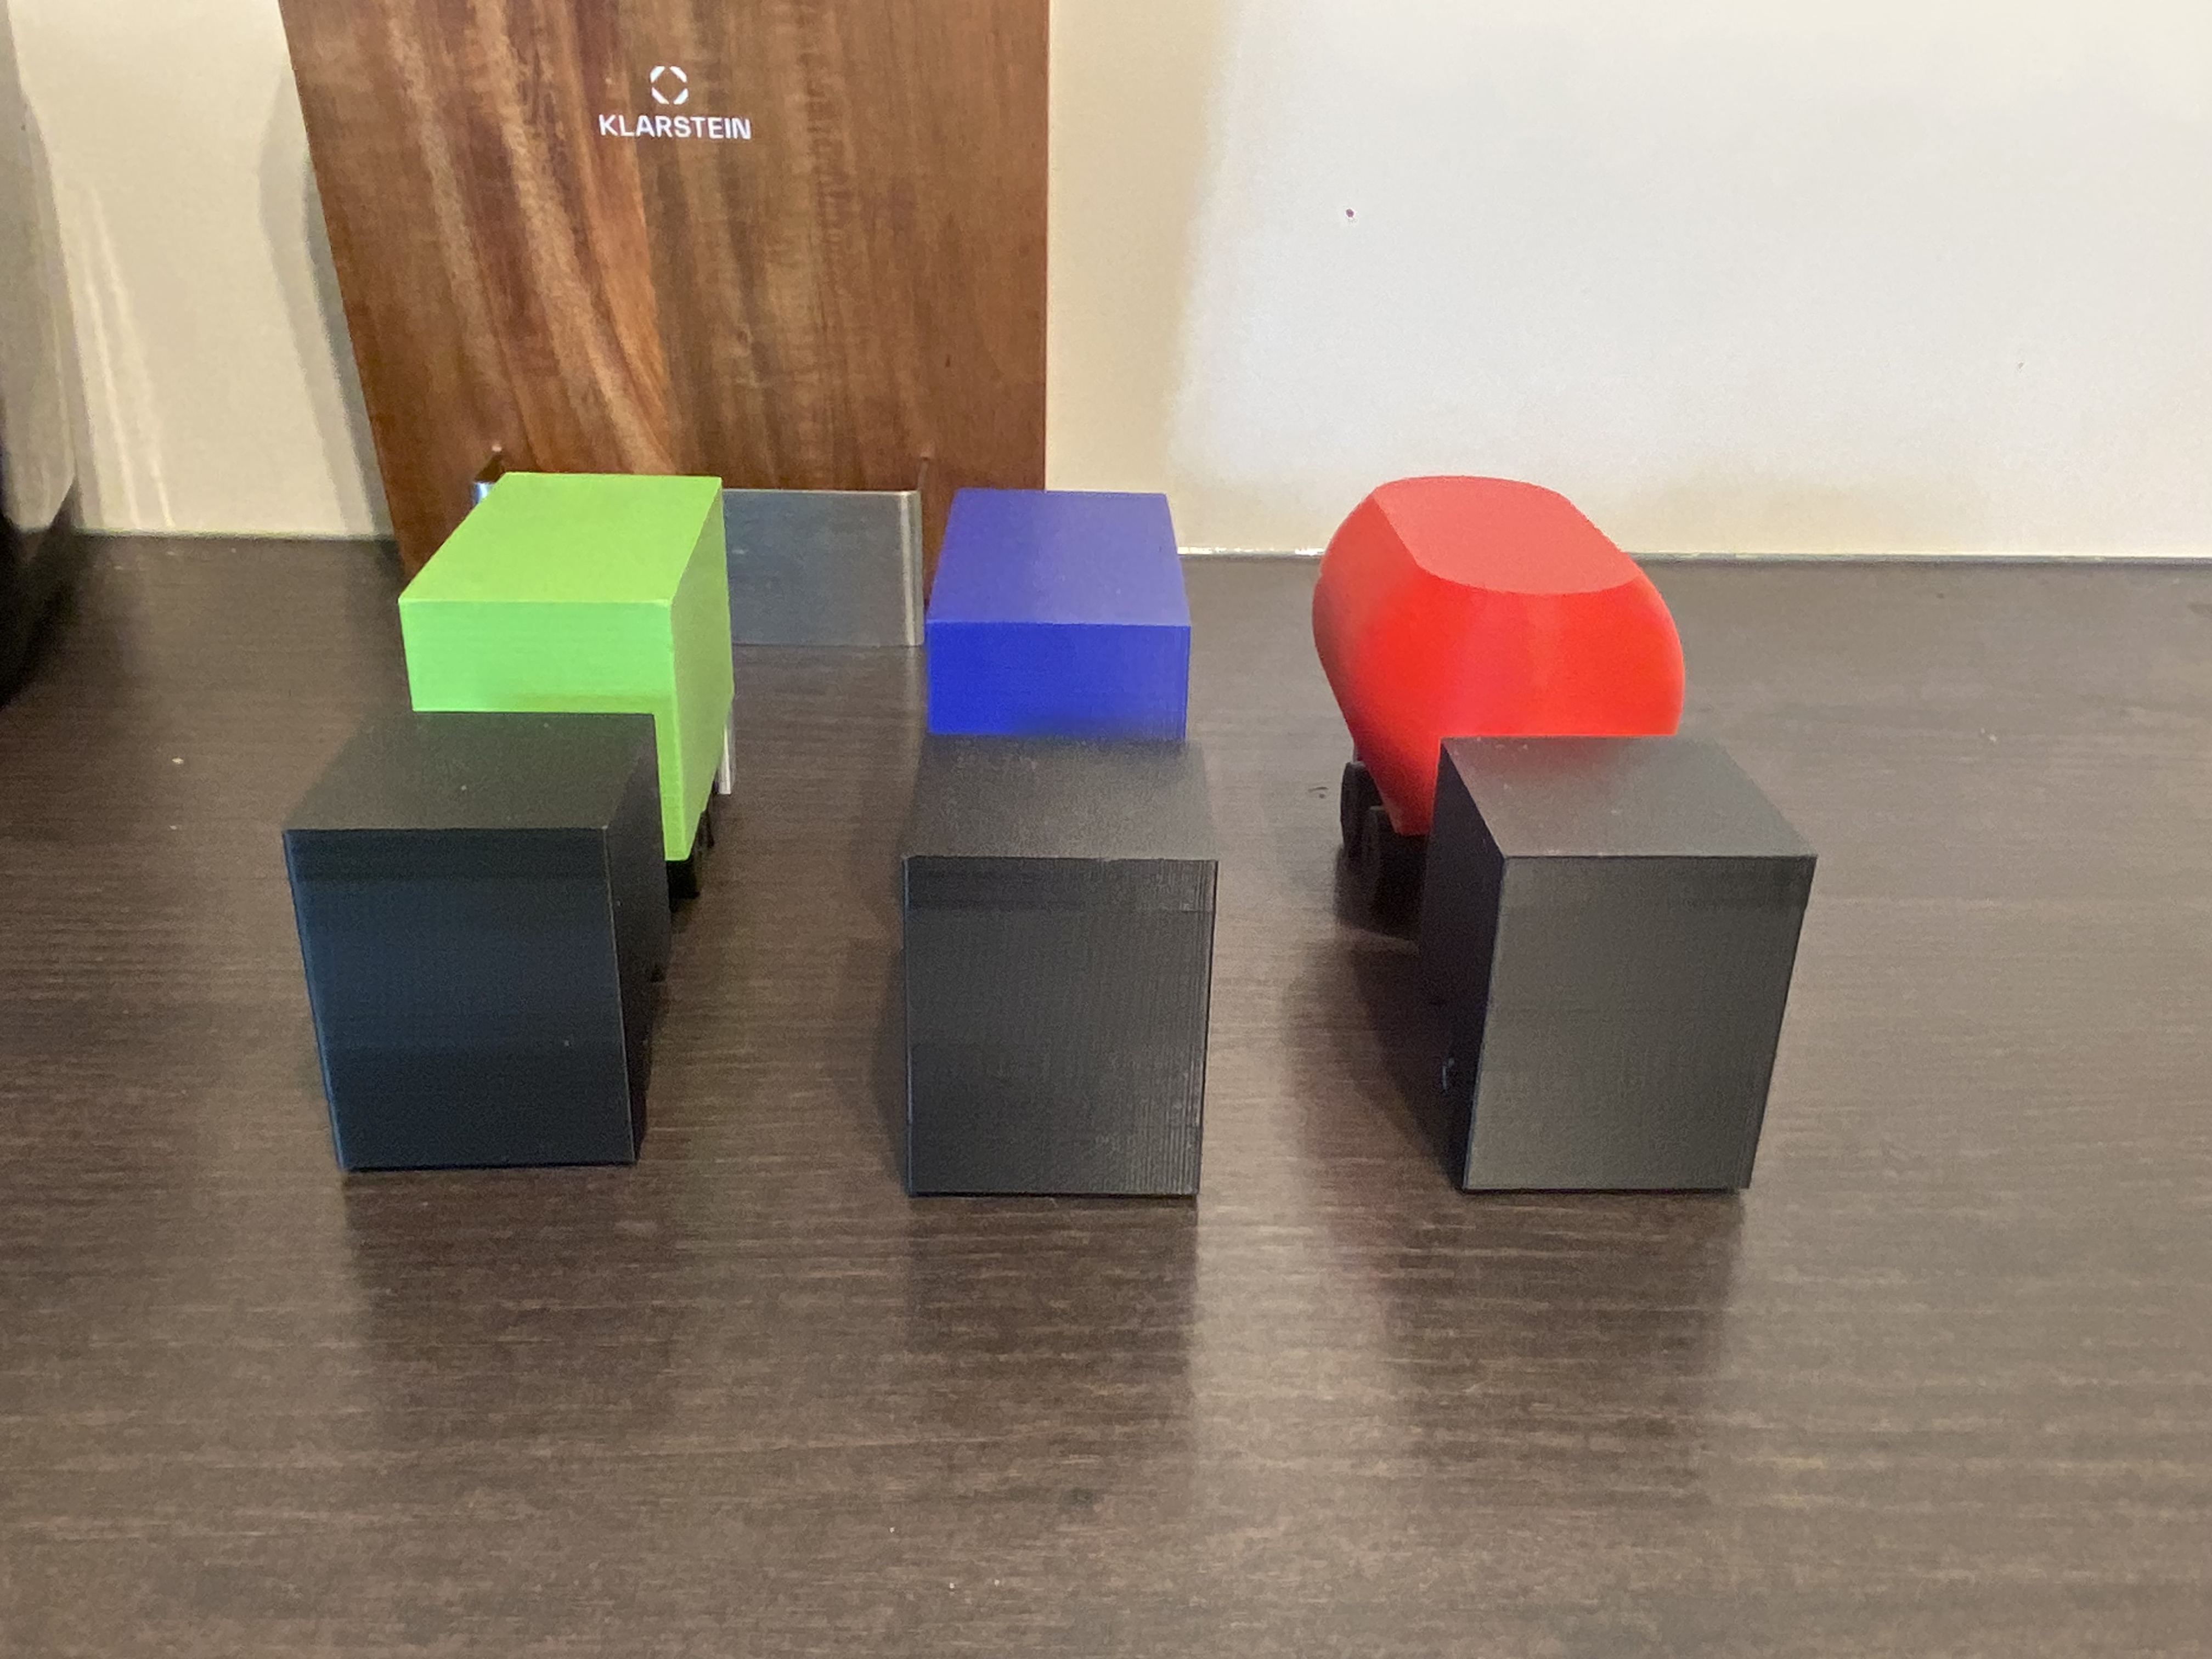blue_truck: (698, 674, 1426, 1011)
green_truck: (206, 629, 923, 1000)
red_truck: (1151, 545, 1970, 1065)
